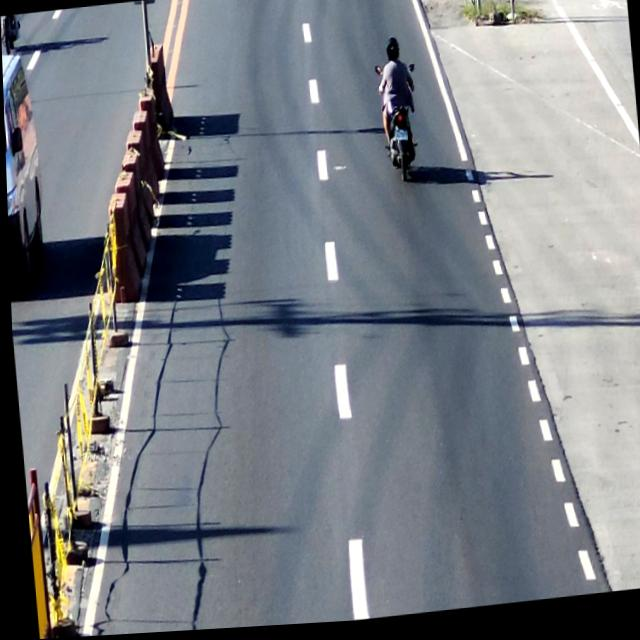Motorcycle: (371, 38, 428, 190)
